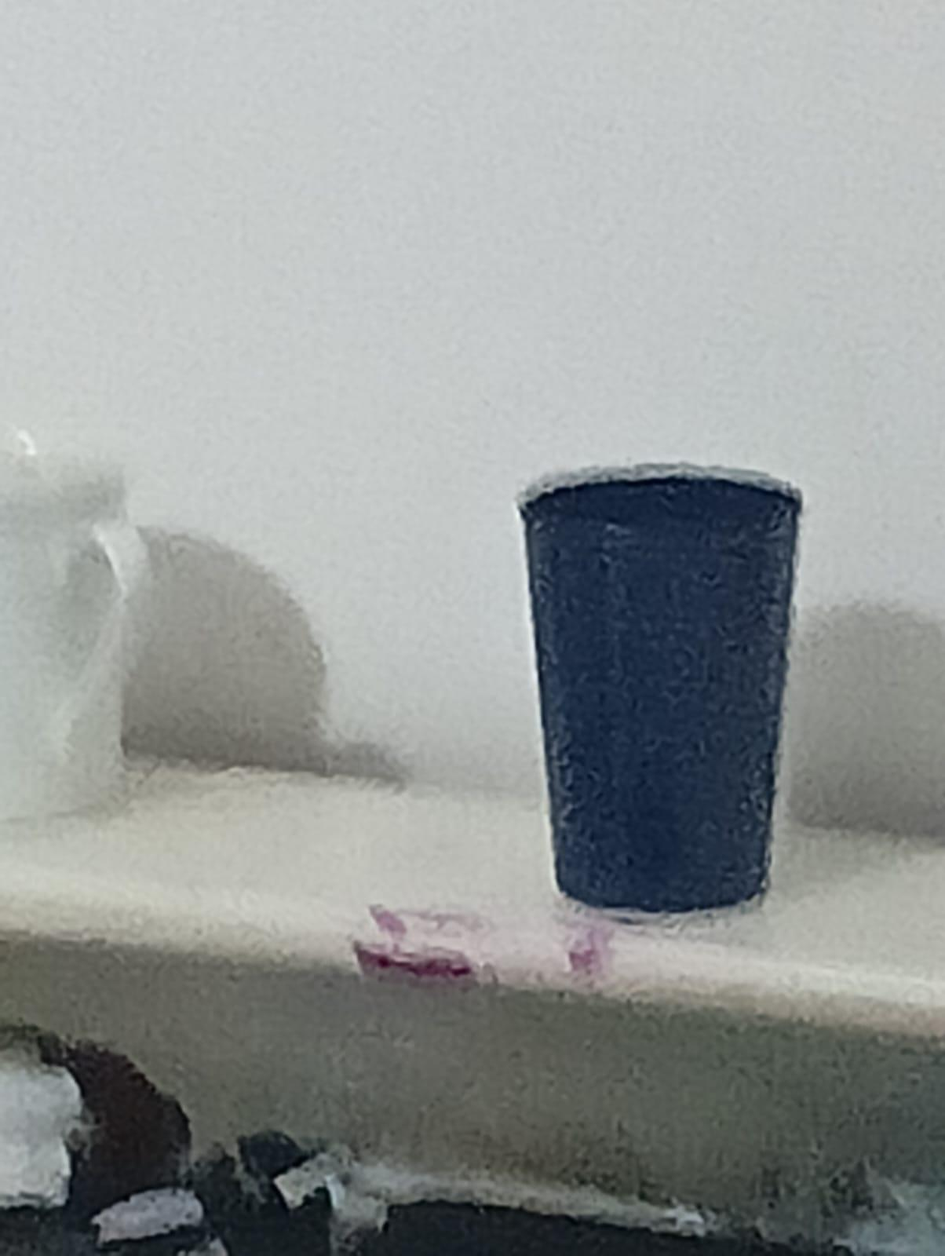cup: (519, 466, 801, 913), (0, 433, 149, 820)
